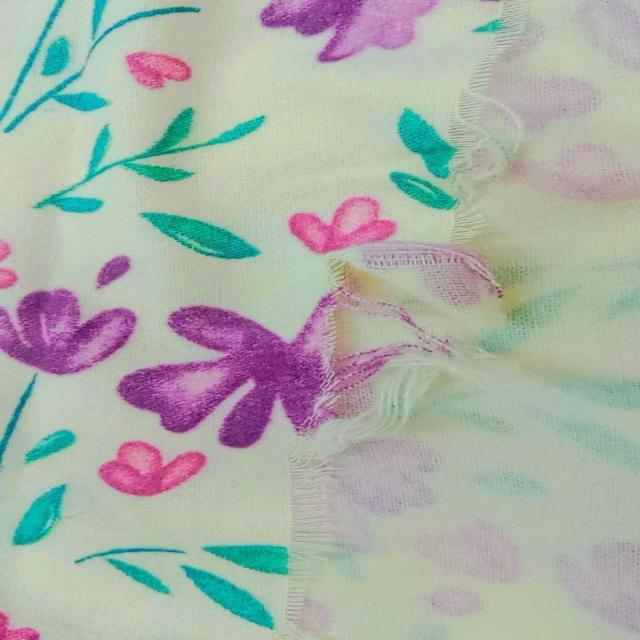cut: (286, 44, 532, 492)
